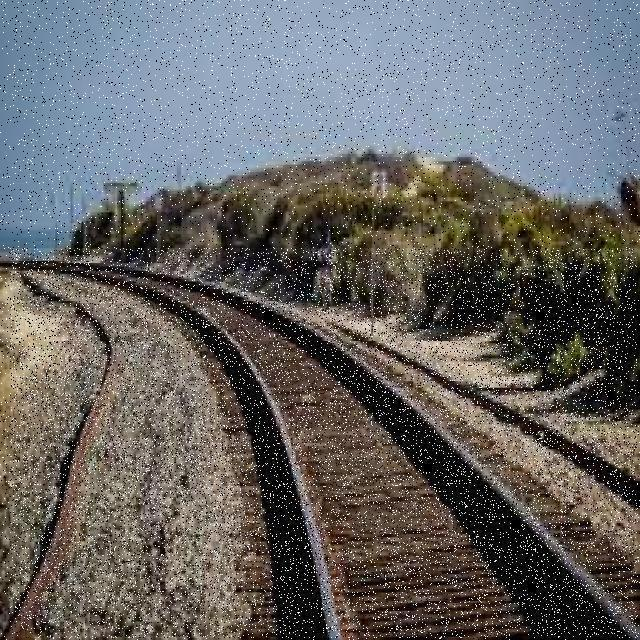rail: (12, 250, 638, 639)
